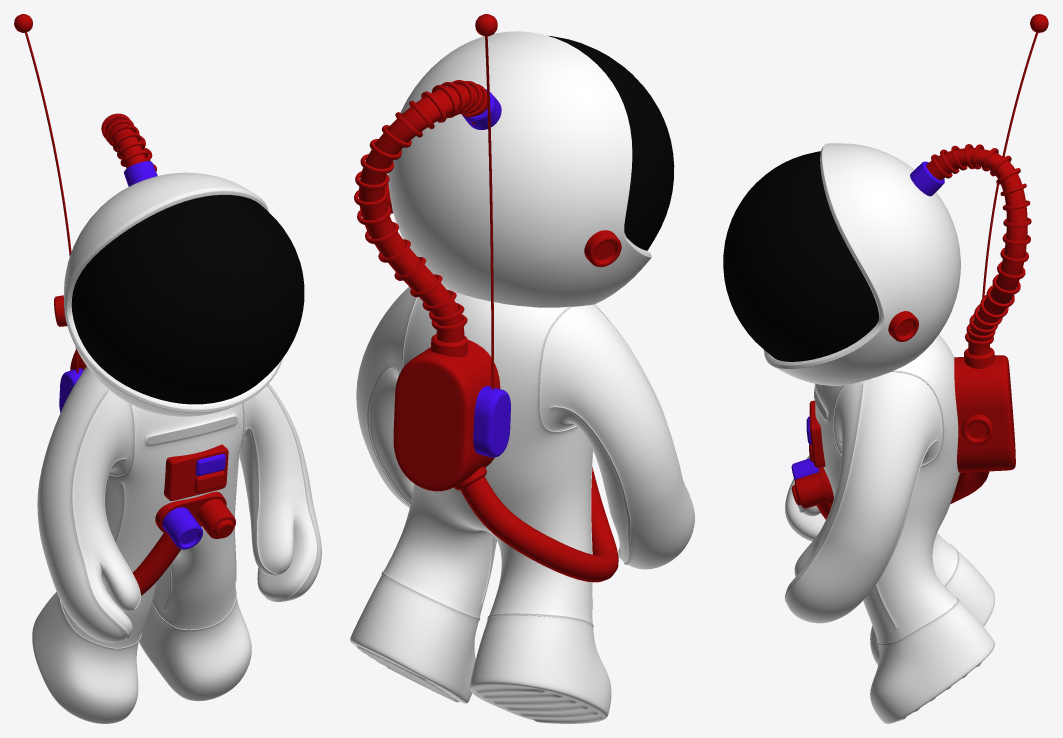
File: astronaut.glb
3 views of the same model, side by side, from view 1: azimuth 30°, elevation 25°; view 2: azimuth 150°, elevation 25°; view 3: azimuth 270°, elevation 25° (orthographic). The views are drawn at different scales.
Visible parts, largest first — view 1: _switchable, Visor, Helmet, Addons 2, Addons 1, Addons 4, Addons 3; view 2: _switchable, Helmet, Addons 2, Visor, Addons 1, Addons 3, Addons 4; view 3: _switchable, Helmet, Visor, Addons 2, Addons 1, Addons 4, Addons 3.
Boxes of the visible parts, x1,y1,x2,y2 form: _switchable: (32, 367, 321, 723); Visor: (71, 195, 304, 404); Helmet: (63, 172, 282, 416); Addons 2: (25, 32, 228, 595); Addons 1: (14, 14, 235, 538); Addons 4: (59, 385, 318, 649); Addons 3: (59, 161, 225, 549); _switchable: (350, 287, 694, 723); Helmet: (387, 31, 651, 307); Addons 2: (359, 36, 618, 582); Visor: (548, 35, 674, 250); Addons 1: (354, 14, 621, 490); Addons 3: (462, 89, 510, 457); Addons 4: (367, 297, 638, 626); _switchable: (784, 335, 994, 723); Helmet: (764, 143, 960, 385); Visor: (723, 151, 878, 361); Addons 2: (809, 32, 1038, 519); Addons 1: (791, 14, 1048, 508); Addons 4: (784, 370, 959, 645); Addons 3: (791, 161, 944, 480).
Size of the model in its own units: 0.214 by 0.5176 by 0.2346.
